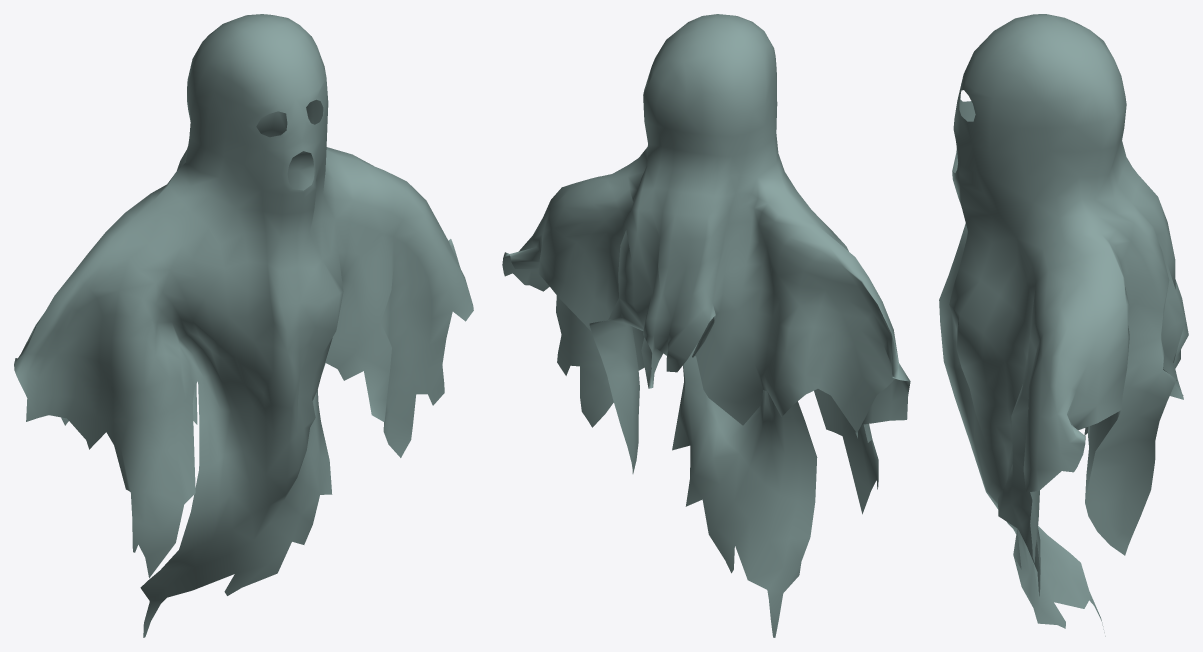
Rendered from ghost.fbx.
3 renders of one model, left to right at view 1: azimuth 30°, elevation 25°; view 2: azimuth 150°, elevation 25°; view 3: azimuth 270°, elevation 25°, orthographic. The views are drawn at different scales.
Parts seen in each view (by area): view 1: ghost; view 2: ghost; view 3: ghost.
Part boxes in pixels (left/top/right/bottom): ghost: left=14, top=14, right=473, bottom=637; ghost: left=502, top=14, right=910, bottom=637; ghost: left=939, top=14, right=1188, bottom=636.
Bounding box in the file's own units: 408 × 548 × 188.
